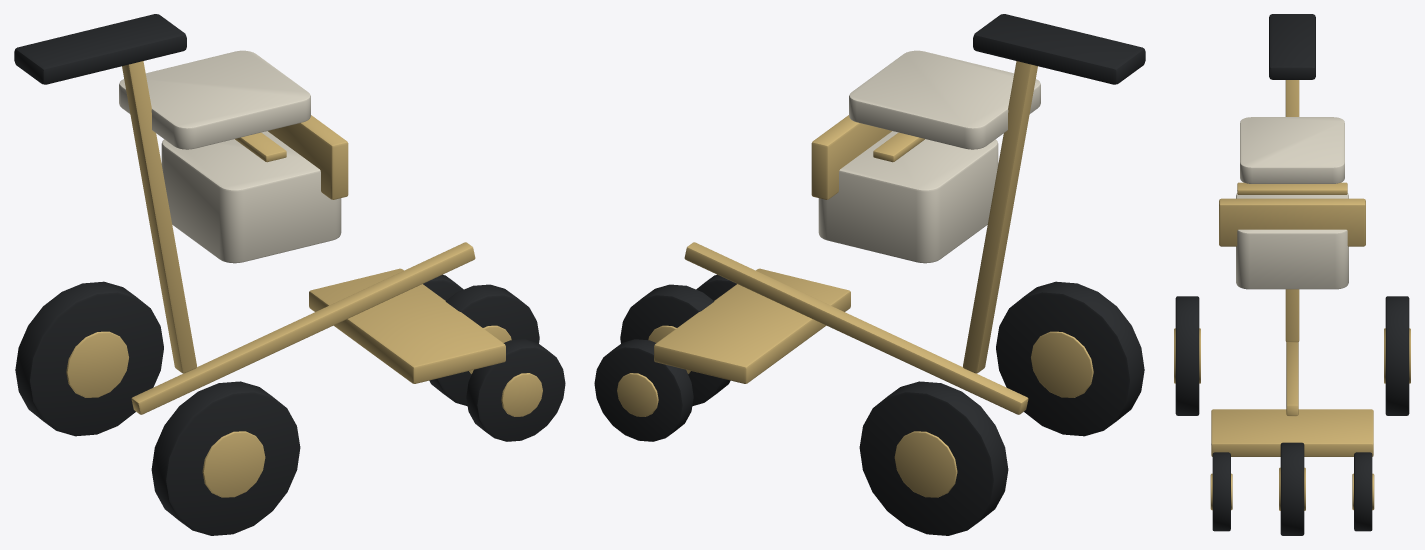
File: push_cart_country_club.glb
The picture shows the model from 3 angles, left to right: view 1: azimuth 30°, elevation 25°; view 2: azimuth 150°, elevation 25°; view 3: azimuth 270°, elevation 25°; orthographic projection. The views are drawn at different scales.
Visible parts, largest first — view 1: PushCart_StorageConsole, PushCart_Rear_L_Tire, PushCart_Rear_R_Tire, PushCart_ScorecardTray, PushCart_BagRestLower, PushCart_LowerFrame, PushCart_HandleStem, PushCart_Handle, PushCart_Front_L_Tire, PushCart_Front_Tire, PushCart_BagRestUpper, PushCart_Rear_L_Hub (+3 smaller); view 2: PushCart_StorageConsole, PushCart_Rear_R_Tire, PushCart_Rear_L_Tire, PushCart_ScorecardTray, PushCart_BagRestLower, PushCart_LowerFrame, PushCart_HandleStem, PushCart_Handle, PushCart_Front_R_Tire, PushCart_Front_Tire, PushCart_BagRestUpper, PushCart_Rear_R_Hub (+3 smaller); view 3: PushCart_BagRestLower, PushCart_StorageConsole, PushCart_ScorecardTray, PushCart_BagRestUpper, PushCart_Handle, PushCart_Rear_L_Tire, PushCart_Rear_R_Tire, PushCart_Front_Tire, PushCart_Front_L_Tire, PushCart_Front_R_Tire, PushCart_HandleStem, PushCart_BrassBadge (+1 smaller).
Boxes of the visible parts, left/top/right/bottom form: PushCart_StorageConsole: left=161, top=131, right=341, bottom=263; PushCart_Rear_L_Tire: left=151, top=381, right=300, bottom=535; PushCart_Rear_R_Tire: left=15, top=281, right=163, bottom=436; PushCart_ScorecardTray: left=119, top=50, right=310, bottom=149; PushCart_BagRestLower: left=309, top=268, right=505, bottom=383; PushCart_LowerFrame: left=131, top=242, right=475, bottom=414; PushCart_HandleStem: left=122, top=61, right=196, bottom=373; PushCart_Handle: left=14, top=14, right=186, bottom=84; PushCart_Front_L_Tire: left=466, top=339, right=565, bottom=441; PushCart_Front_Tire: left=429, top=284, right=539, bottom=406; PushCart_BagRestUpper: left=268, top=115, right=348, bottom=199; PushCart_Rear_L_Hub: left=202, top=431, right=265, bottom=497; PushCart_StorageConsole: left=818, top=131, right=998, bottom=263; PushCart_Rear_R_Tire: left=859, top=381, right=1008, bottom=535; PushCart_Rear_L_Tire: left=996, top=281, right=1144, bottom=436; PushCart_ScorecardTray: left=849, top=50, right=1040, bottom=149; PushCart_BagRestLower: left=654, top=268, right=850, bottom=383; PushCart_LowerFrame: left=684, top=242, right=1028, bottom=414; PushCart_HandleStem: left=963, top=61, right=1037, bottom=373; PushCart_Handle: left=973, top=14, right=1145, bottom=84; PushCart_Front_R_Tire: left=594, top=339, right=693, bottom=441; PushCart_Front_Tire: left=620, top=284, right=730, bottom=406; PushCart_BagRestUpper: left=811, top=115, right=891, bottom=199; PushCart_Rear_R_Hub: left=894, top=431, right=957, bottom=497; PushCart_BagRestLower: left=1211, top=409, right=1373, bottom=456; PushCart_StorageConsole: left=1236, top=193, right=1348, bottom=289; PushCart_ScorecardTray: left=1240, top=117, right=1344, bottom=183; PushCart_BagRestUpper: left=1219, top=198, right=1365, bottom=246; PushCart_Handle: left=1269, top=14, right=1315, bottom=79; PushCart_Rear_L_Tire: left=1175, top=296, right=1199, bottom=415; PushCart_Rear_R_Tire: left=1385, top=296, right=1409, bottom=415; PushCart_Front_Tire: left=1280, top=442, right=1304, bottom=535; PushCart_Front_L_Tire: left=1212, top=452, right=1230, bottom=531; PushCart_Front_R_Tire: left=1354, top=452, right=1372, bottom=531; PushCart_HandleStem: left=1285, top=80, right=1299, bottom=342; PushCart_BrassBadge: left=1237, top=182, right=1347, bottom=194.
Size of what is drawn, in the model's own units: 1.3 by 1.12 by 0.6864.
